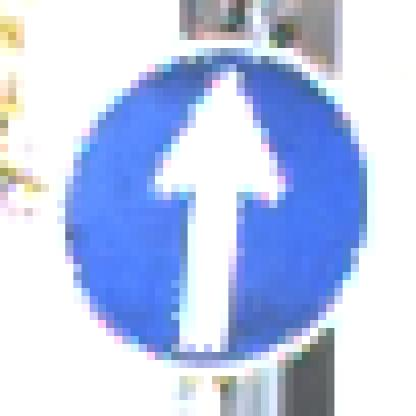AheadOnly: (50, 41, 376, 377)
